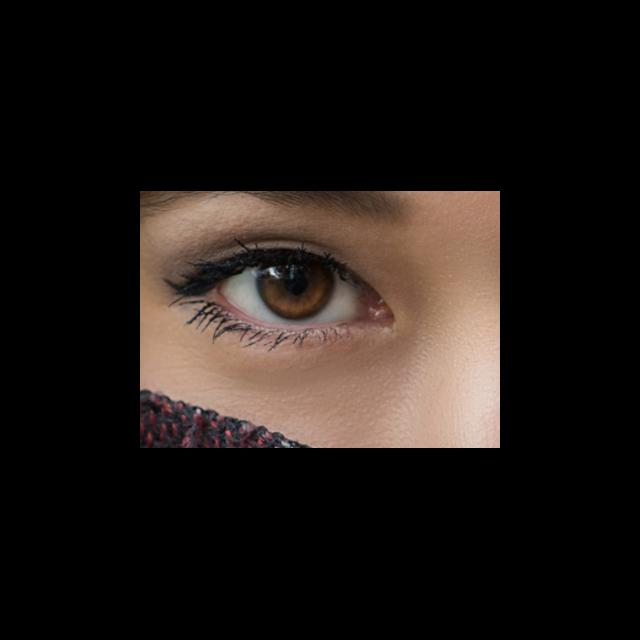eye: (219, 257, 363, 330)
iris: (258, 262, 333, 320)
